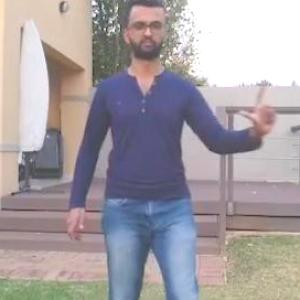land_hand: (234, 80, 283, 142)
